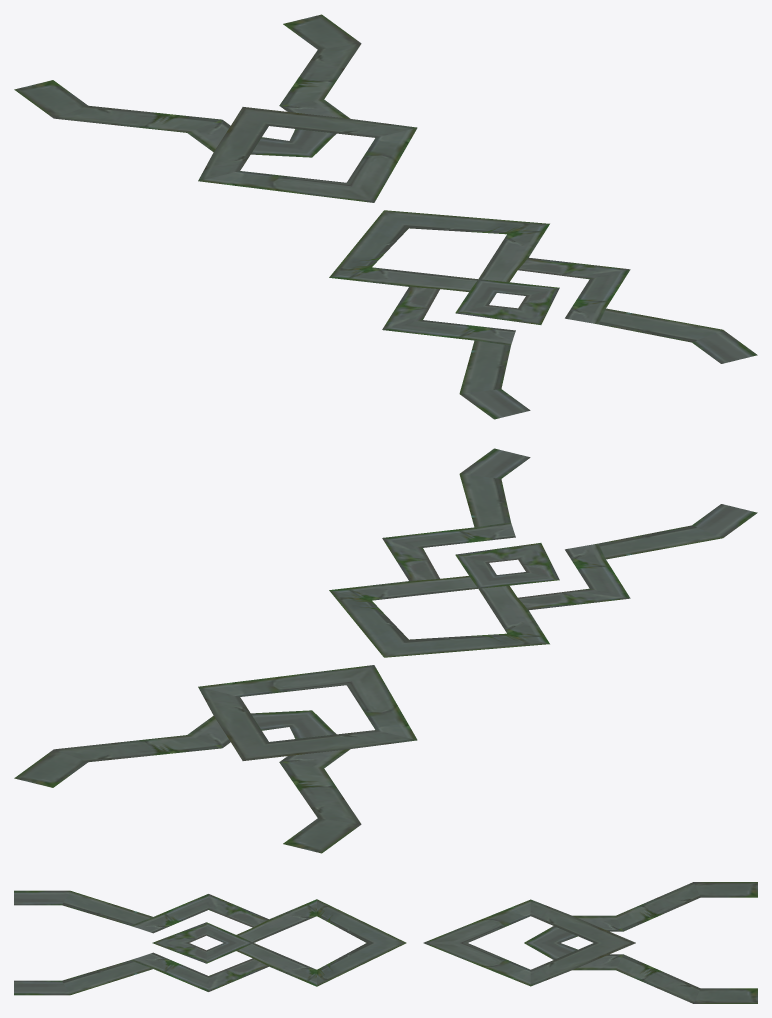
Rendered from SL_zhuangshi01.FBX.
3 renders of one model, top to bottom at view 1: azimuth 30°, elevation 25°; view 2: azimuth 150°, elevation 25°; view 3: azimuth 270°, elevation 25°, orthographic. The views are drawn at different scales.
Parts seen in each view (by area): view 1: SL_zhuangshi01_001; view 2: SL_zhuangshi01_001; view 3: SL_zhuangshi01_001.
Boxes of the visible parts, x1,y1,x2,y2 form: SL_zhuangshi01_001: [14, 14, 757, 419]; SL_zhuangshi01_001: [14, 448, 757, 853]; SL_zhuangshi01_001: [14, 882, 757, 1003].
Bounding box in the file's own units: 442 × 0.000149 × 1139.
